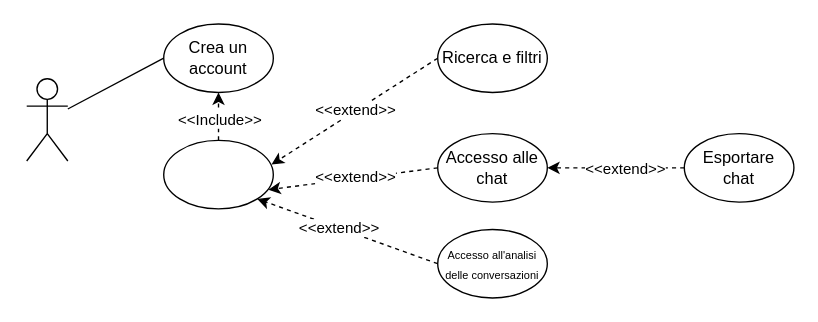
Image size: 818x322. Some labels were removed from this diagram. The centre of each missing label's shape, as x and y in pixels:
"Esegue login" belongs at point 217,174.
"Utente" belongs at point 46,119.
